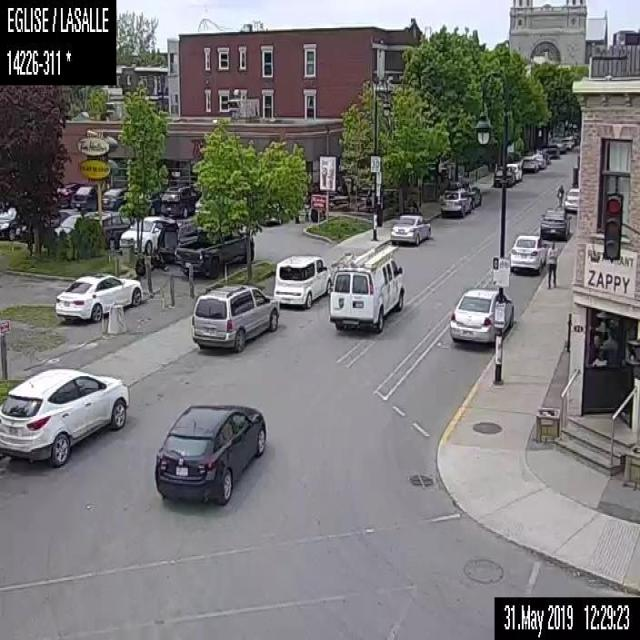pedestrian: (546, 241, 558, 287), (302, 188, 309, 220), (556, 184, 564, 207)
vehicle: (0, 366, 130, 466), (154, 402, 264, 502), (328, 237, 404, 336), (190, 280, 279, 351), (52, 271, 140, 319), (174, 223, 252, 274), (272, 252, 332, 310), (448, 286, 501, 346), (118, 214, 176, 256), (0, 206, 58, 241), (388, 212, 431, 247), (160, 180, 201, 214), (509, 233, 545, 270), (538, 206, 572, 241), (93, 213, 125, 250), (439, 188, 471, 216), (52, 182, 79, 209), (52, 213, 82, 236), (71, 184, 96, 209), (102, 187, 126, 210), (462, 184, 481, 206), (493, 167, 512, 185), (564, 186, 578, 210), (505, 160, 521, 180), (550, 136, 566, 154), (520, 154, 538, 170), (544, 143, 560, 158), (532, 152, 546, 168)
